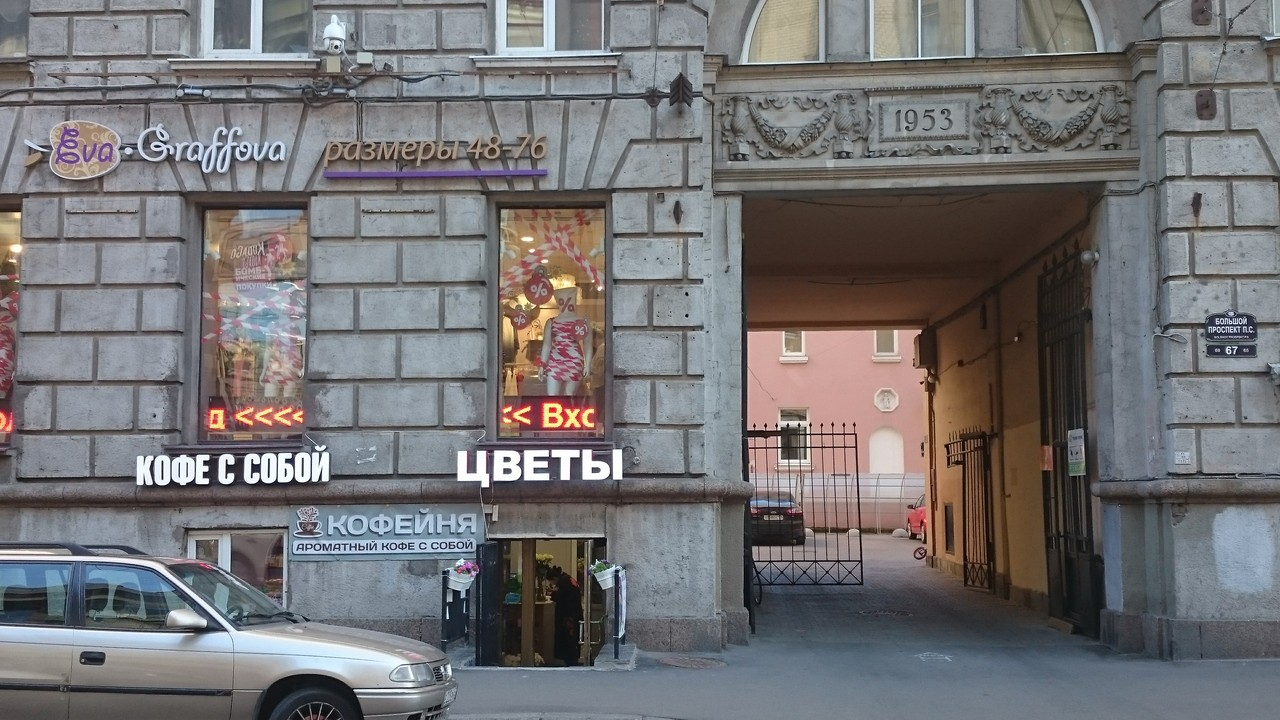arch: (736, 184, 1126, 655)
signboard: (24, 116, 287, 183), (287, 506, 474, 557), (323, 138, 551, 175), (458, 447, 622, 487), (137, 453, 333, 486)
window: (487, 204, 610, 444), (195, 204, 316, 446)
